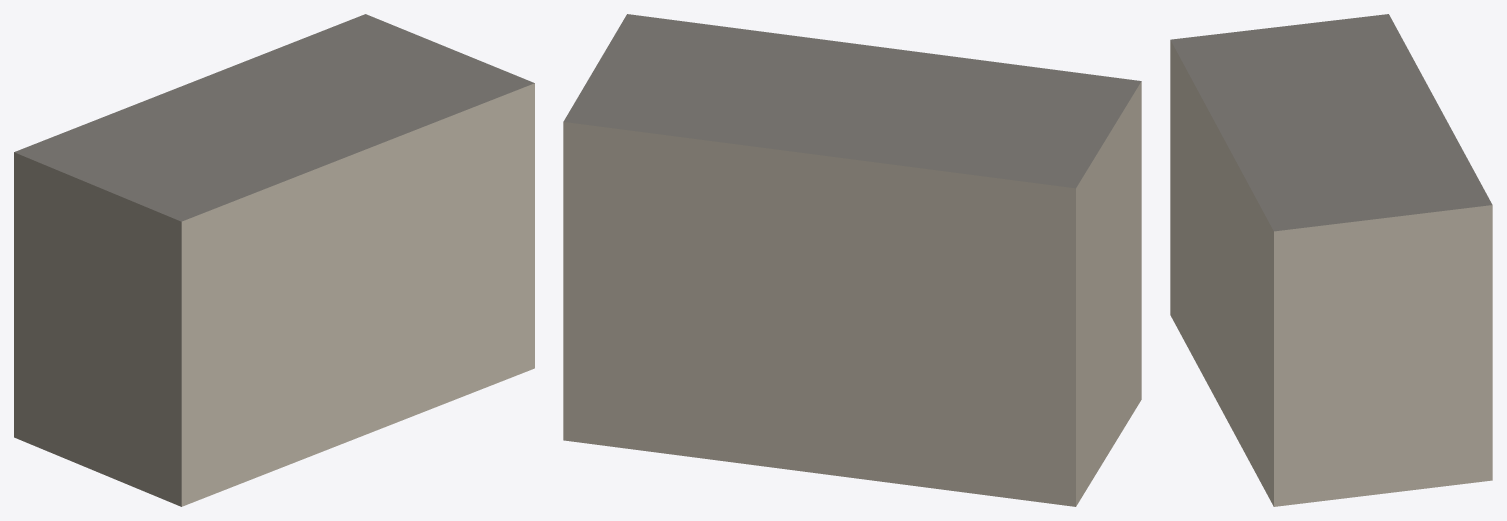
3 views of the same model, side by side, from view 1: azimuth 30°, elevation 25°; view 2: azimuth 150°, elevation 25°; view 3: azimuth 270°, elevation 25° (orthographic). The views are drawn at different scales.
Visible parts, largest first — view 1: HP-w446934364; view 2: HP-w446934364; view 3: HP-w446934364.
Part boxes in pixels (left/top/right/bottom): HP-w446934364: left=14, top=14, right=534, bottom=506; HP-w446934364: left=563, top=14, right=1141, bottom=506; HP-w446934364: left=1170, top=14, right=1492, bottom=506.
Size of the model in its own units: 30.47 by 18 by 19.08.
